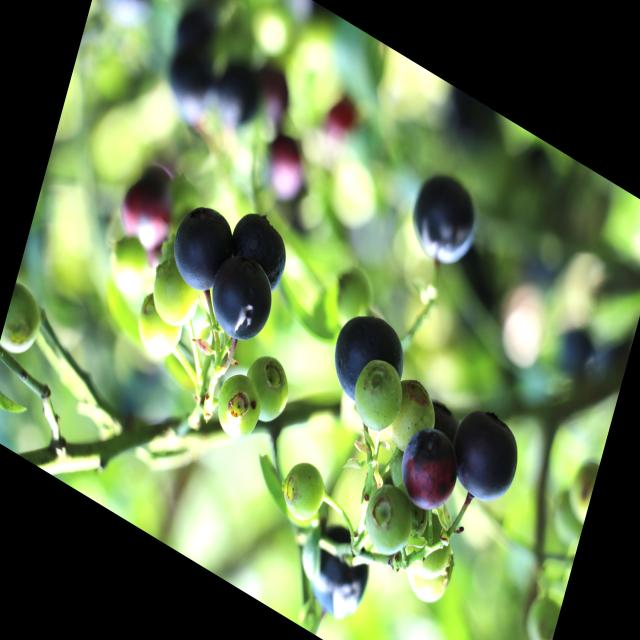blueberry: (324, 295, 414, 429), (439, 390, 529, 520), (403, 161, 484, 278), (298, 516, 374, 630), (203, 242, 280, 352), (164, 192, 236, 300), (223, 196, 297, 296), (395, 420, 465, 524)
blueberry-halfripe: (112, 168, 178, 262)
blueberry-unripe: (356, 470, 422, 568), (235, 340, 297, 432), (383, 372, 443, 466), (207, 362, 267, 448), (349, 352, 407, 438), (146, 251, 203, 333), (132, 287, 188, 365), (0, 277, 49, 366), (276, 450, 330, 530), (402, 510, 456, 586), (108, 227, 152, 298), (404, 562, 449, 611)
